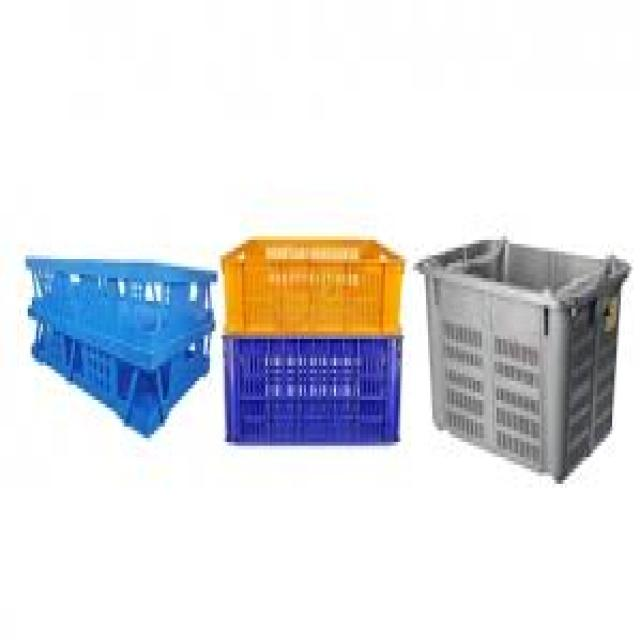basket: (9, 251, 222, 442), (220, 235, 405, 444)
